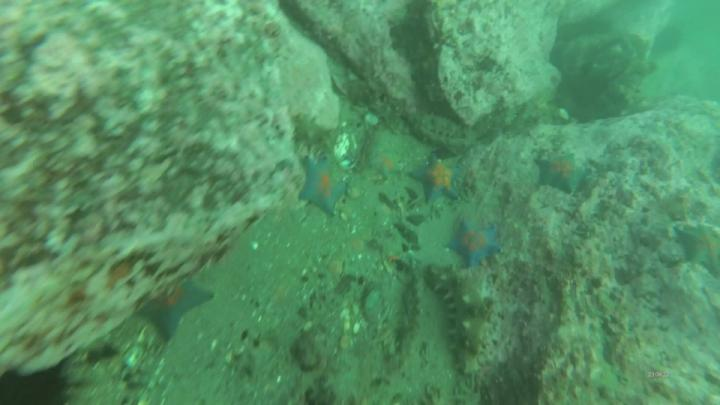holothurian: (433, 272, 492, 356)
starfish: (138, 276, 216, 340), (299, 157, 347, 214), (447, 221, 502, 267), (410, 156, 458, 201), (676, 224, 720, 272), (534, 155, 588, 192), (369, 151, 400, 176)
